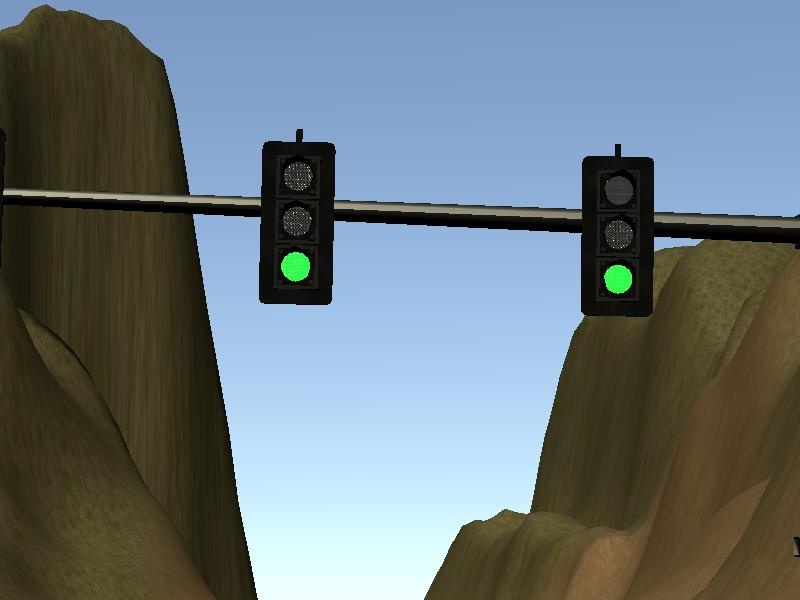green: (242, 118, 341, 311), (574, 142, 668, 327)
